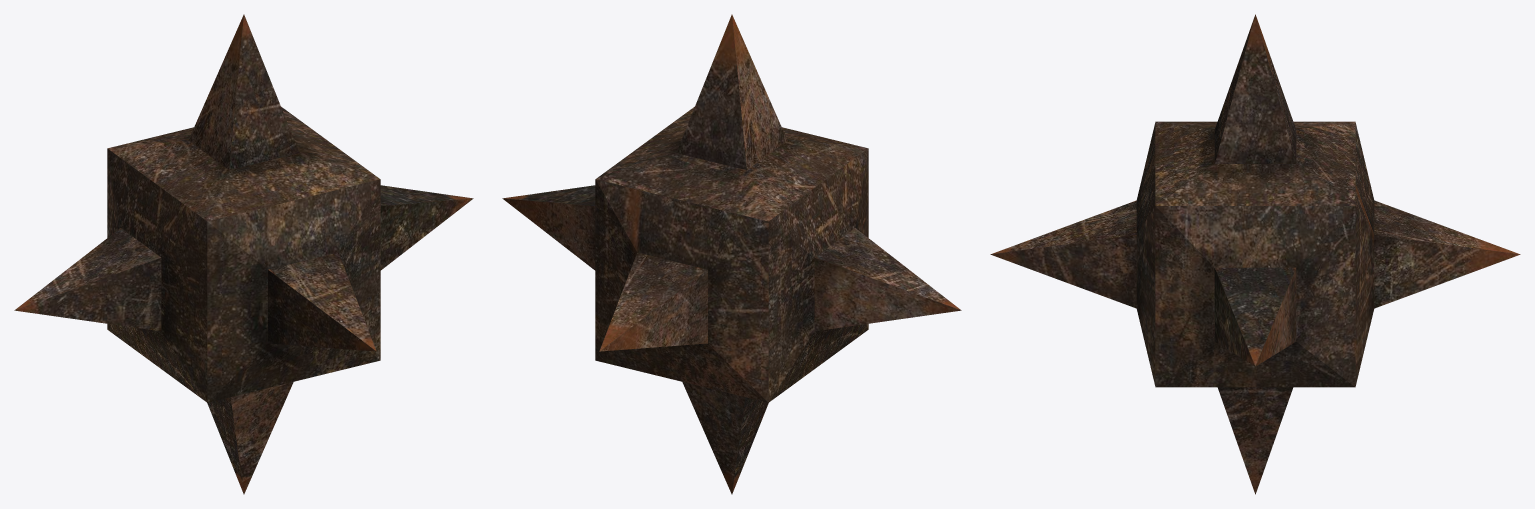
The model's file is Pinche.fbx.
3 renders of one model, left to right at view 1: azimuth 30°, elevation 25°; view 2: azimuth 150°, elevation 25°; view 3: azimuth 270°, elevation 25°, orthographic.
Parts seen in each view (by area): view 1: PincheCuadrado; view 2: PincheCuadrado; view 3: PincheCuadrado.
Boxes of the visible parts, <box> form: PincheCuadrado: <box>14,14,473,494</box>; PincheCuadrado: <box>502,14,961,494</box>; PincheCuadrado: <box>990,14,1520,494</box>.
Size of the model in its own units: 714 by 714 by 714.
